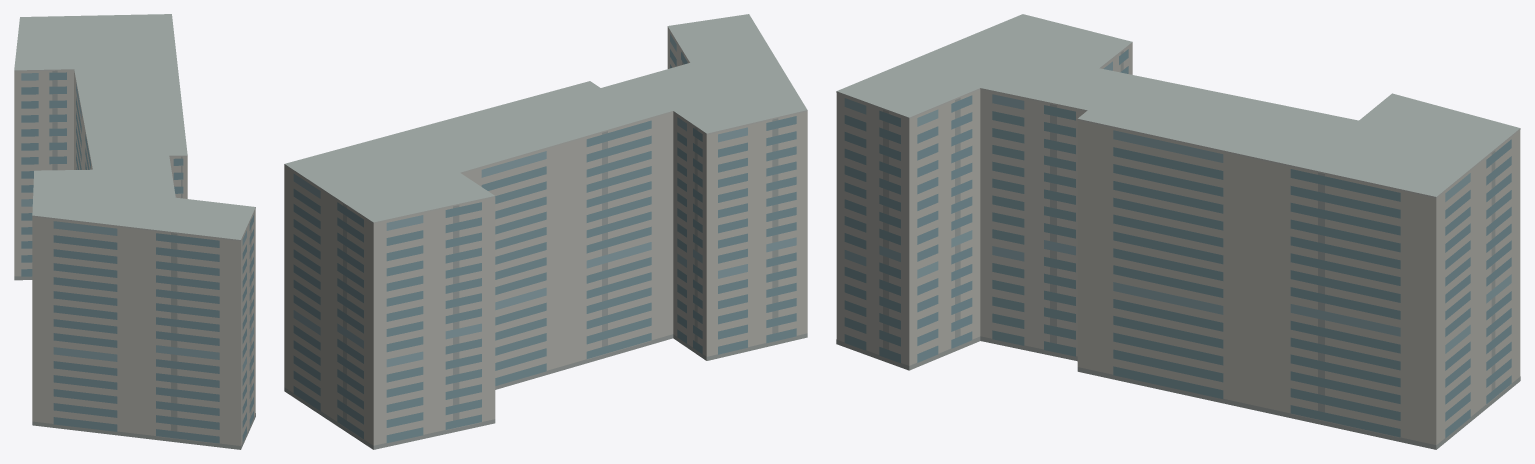
The model's file is residential-b303abd5-48e5-42d1-9560-f6da71243a82.glb.
3 renders of one model, left to right at view 1: azimuth 30°, elevation 25°; view 2: azimuth 150°, elevation 25°; view 3: azimuth 270°, elevation 25°, orthographic. The views are drawn at different scales.
Parts seen in each view (by area): view 1: residential-b303abd5-48e5-42d1-9560-f6da71243a82.tmp; view 2: residential-b303abd5-48e5-42d1-9560-f6da71243a82.tmp; view 3: residential-b303abd5-48e5-42d1-9560-f6da71243a82.tmp.
Boxes of the visible parts, <box> form: residential-b303abd5-48e5-42d1-9560-f6da71243a82.tmp: <box>14,14,255,449</box>; residential-b303abd5-48e5-42d1-9560-f6da71243a82.tmp: <box>284,14,807,449</box>; residential-b303abd5-48e5-42d1-9560-f6da71243a82.tmp: <box>836,14,1520,449</box>.
Bounding box in the file's own units: 65.16 × 42 × 103.
